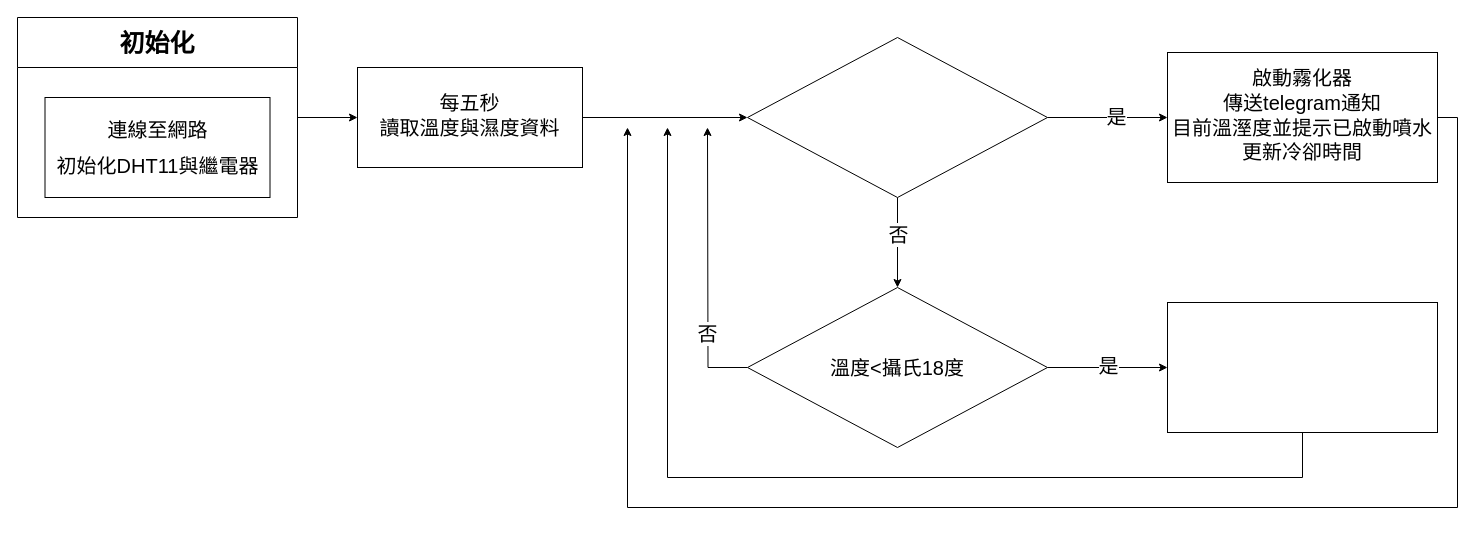
Some shapes in this 1483 by 533 pixel diagram are drawn without their labels. Each missing label, with the centre of its shape:
"傳送 Telegram 通知，提示溫度過低需注意保溫" belongs at (1302,367).
"溫度>攝氏27度 且濕度<60% 且冷卻時間已過" belongs at (897,117).
